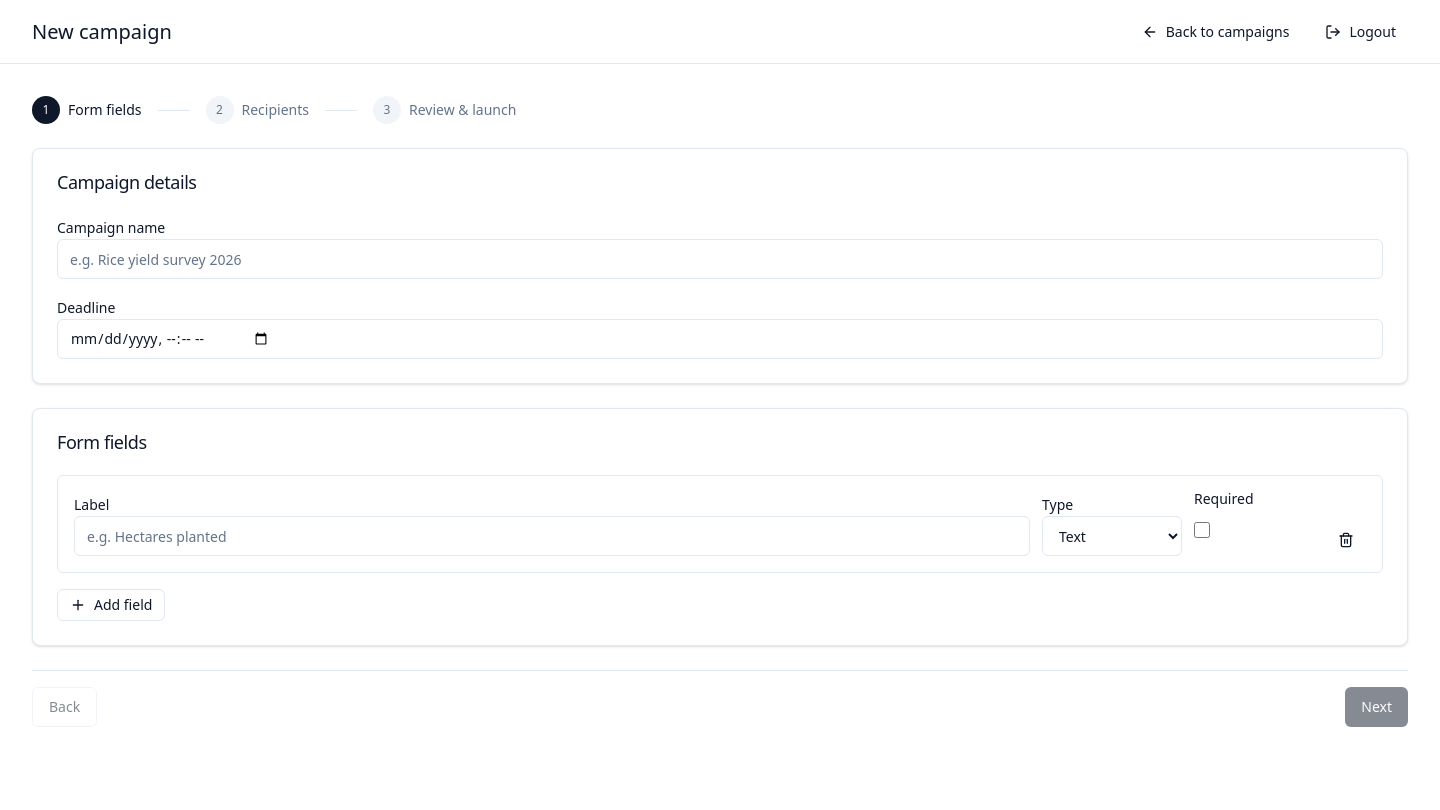
it: NewCampaignPage › Step 1 — Form fields › select_one field type shows options input
The image size is (1440, 810).
Note: Change the default field type to select_one
Select "Single choice" in the dropdown labelled "Type": point(1112, 536) [1042, 516, 1182, 556]
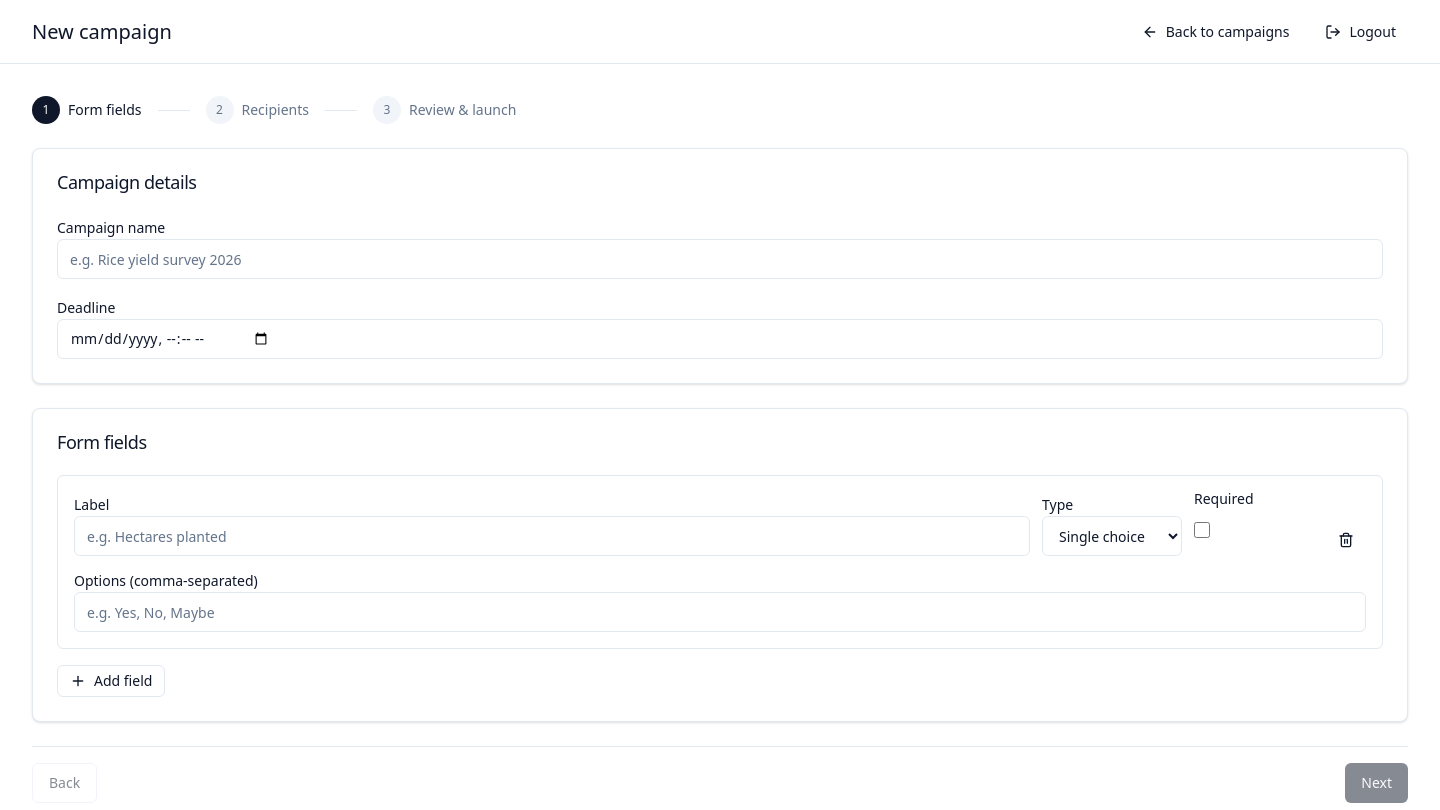
Now the field labelled "Options (comma-separated)" is shown, box [74, 592, 1366, 632]
